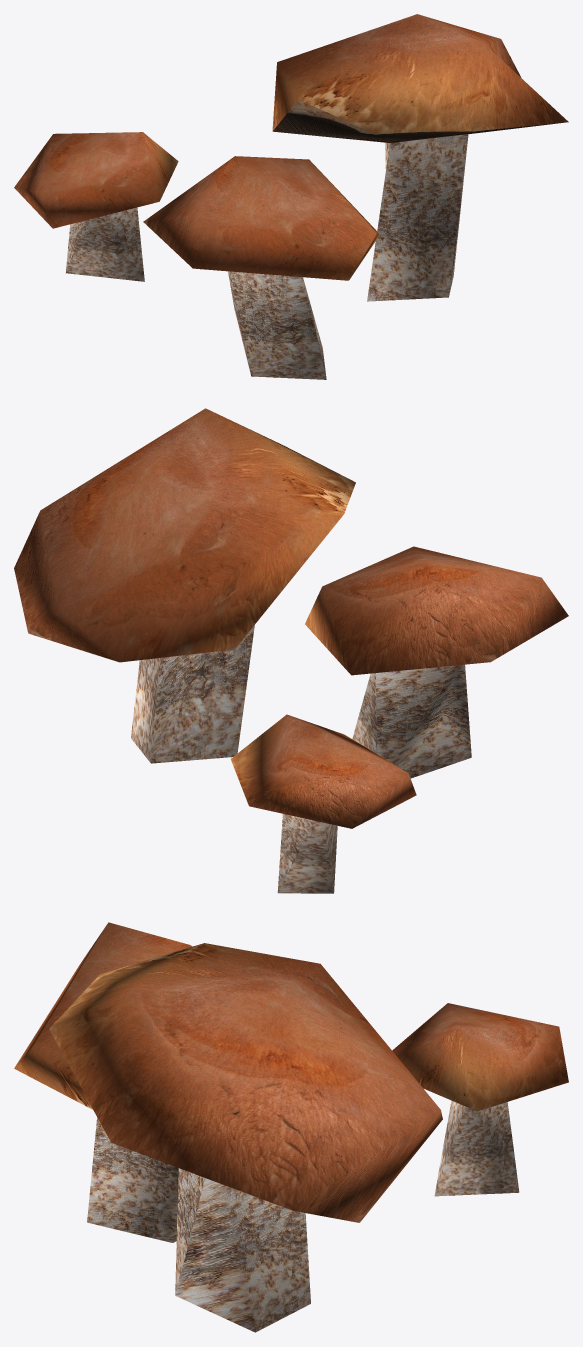
File: mushroom_LOD2.fbx
3 renders of one model, top to bottom at view 1: azimuth 30°, elevation 25°; view 2: azimuth 150°, elevation 25°; view 3: azimuth 270°, elevation 25°, orthographic. The views are drawn at different scales.
Visible parts, largest first — view 1: Mesh; view 2: Mesh; view 3: Mesh.
Boxes of the visible parts, left/top/right/bottom form: Mesh: left=14, top=14, right=568, bottom=379; Mesh: left=14, top=408, right=568, bottom=893; Mesh: left=14, top=922, right=568, bottom=1332.
Size of the model in its own units: 101 by 63.14 by 93.6.
Materials: 1 (1 with a texture image).
